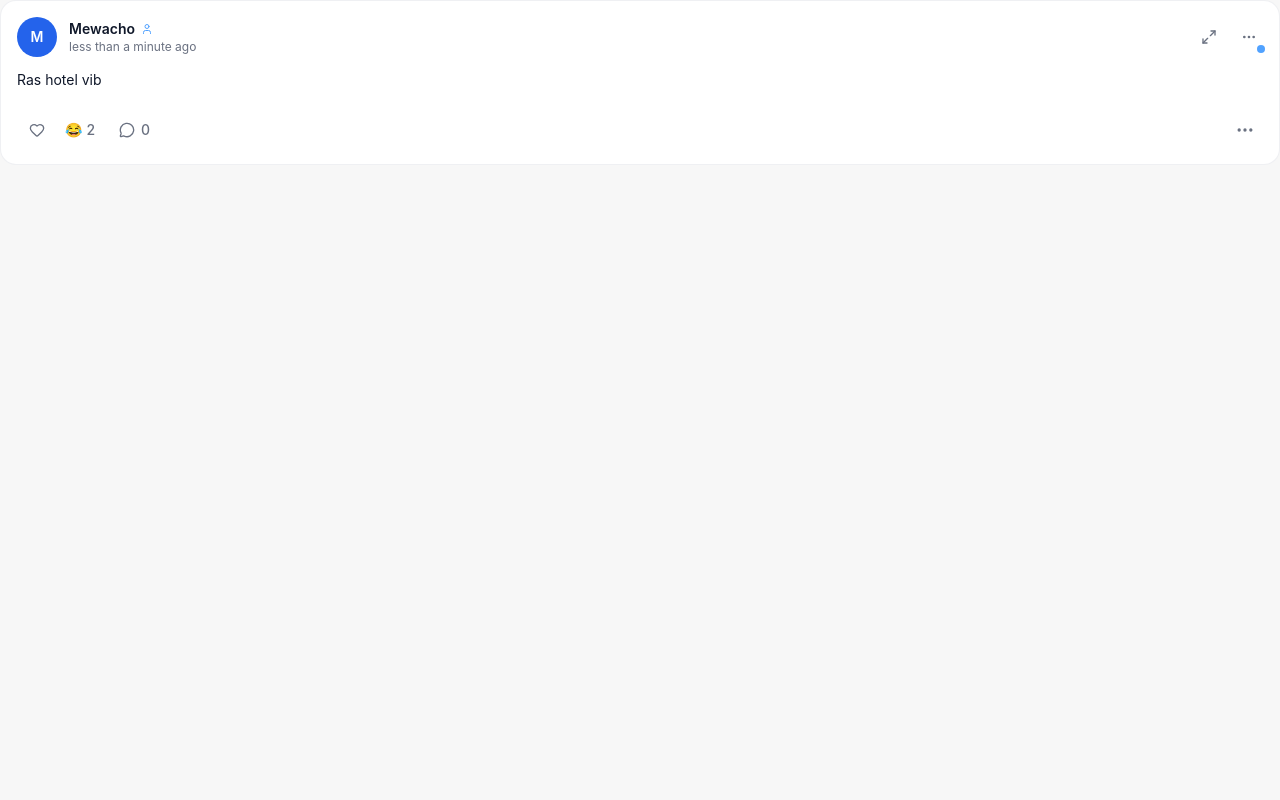
it: reactions › Like saves ❤️, the count shows top reactions and opens who reacted
The width and height of the screenshot is (1280, 800).
What coordinates should you click on to do the following:
click the button named "Like post by Mewacho"
I would click on:
 (37, 130)
Its box is top-left (17, 108), bottom-right (57, 152).
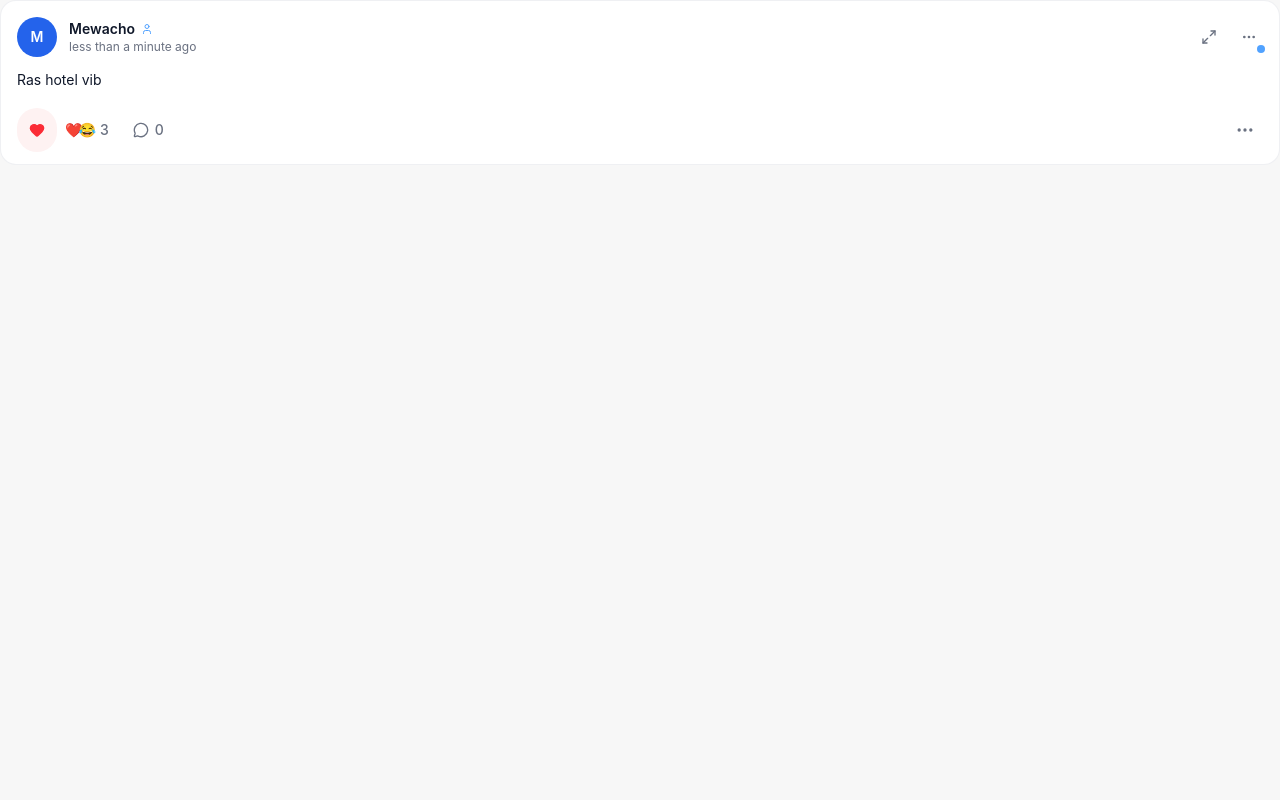
What coordinates should you click on to do the following:
click the button named "See who reacted (3)"
I would click on:
 (87, 130)
Its box is top-left (57, 108), bottom-right (117, 152).
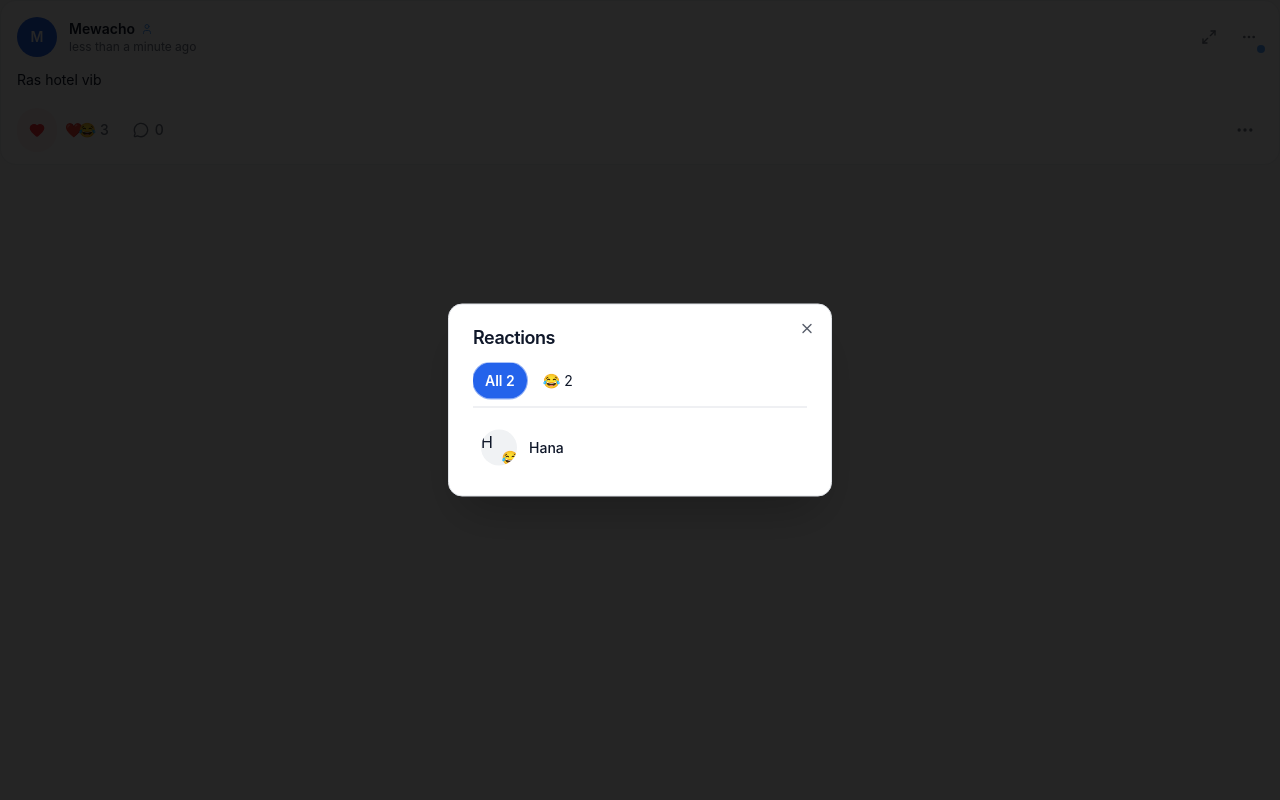
expect the text "Hana" is shown: met, box top-left (529, 438), bottom-right (564, 458)
